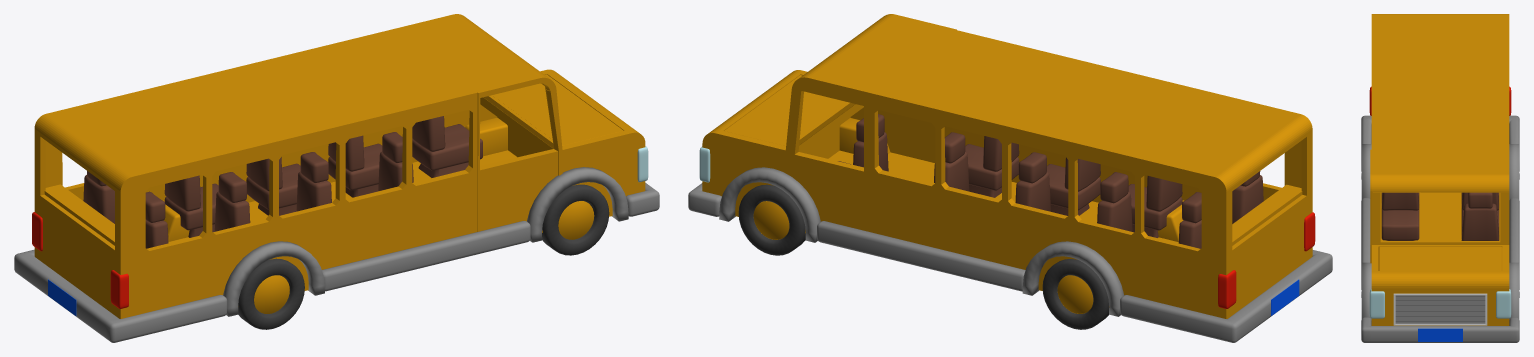
Rendered from SchoolBus.fbx.
3 renders of one model, left to right at view 1: azimuth 30°, elevation 25°; view 2: azimuth 150°, elevation 25°; view 3: azimuth 270°, elevation 25°, orthographic. The views are drawn at different scales.
Parts seen in each view (by area): view 1: Cube, Cube.014, Cube.005, Cube.010, Cube.013, Cylinder, Cylinder.002, Cylinder.004, Cylinder.005, Cylinder.003, Cylinder.001, Cube.009 (+4 smaller); view 2: Cube, Cube.014, Cube.005, Cube.010, Cylinder, Cylinder.002, Cylinder.004, Cylinder.005, Cylinder.003, Cylinder.001, Cube.009, Cube.013 (+4 smaller); view 3: Cube, Cube.007, Cube.010, Cube.004, Cube.014, Cube.005, Cube.013, Cylinder.005, Cylinder.004, Cube.008, Cube.006, Cube.015 (+1 smaller).
Part boxes in pixels (x1=…): Cube: x1=34, y1=14, x2=645, y2=318; Cube.014: x1=83, y1=132, x2=413, y2=248; Cube.005: x1=14, y1=221, x2=530, y2=342; Cube.010: x1=44, y1=97, x2=552, y2=245; Cube.013: x1=412, y1=116, x2=482, y2=177; Cylinder: x1=542, y1=184, x2=609, y2=255; Cylinder.002: x1=238, y1=258, x2=304, y2=329; Cylinder.004: x1=527, y1=167, x2=628, y2=242; Cylinder.005: x1=223, y1=241, x2=324, y2=316; Cylinder.003: x1=254, y1=275, x2=289, y2=313; Cylinder.001: x1=558, y1=201, x2=594, y2=239; Cube.009: x1=32, y1=212, x2=128, y2=308; Cube: x1=702, y1=14, x2=1312, y2=318; Cube.014: x1=934, y1=132, x2=1263, y2=248; Cube.005: x1=817, y1=221, x2=1332, y2=342; Cube.010: x1=798, y1=104, x2=1302, y2=245; Cylinder: x1=738, y1=184, x2=805, y2=255; Cylinder.002: x1=1042, y1=259, x2=1109, y2=329; Cylinder.004: x1=719, y1=167, x2=820, y2=242; Cylinder.005: x1=1022, y1=241, x2=1124, y2=316; Cylinder.003: x1=1057, y1=275, x2=1093, y2=313; Cylinder.001: x1=753, y1=201, x2=789, y2=239; Cube.009: x1=1218, y1=212, x2=1315, y2=308; Cube.013: x1=838, y1=114, x2=888, y2=171; Cube: x1=1370, y1=14, x2=1509, y2=325; Cube.007: x1=1395, y1=295, x2=1485, y2=323; Cube.010: x1=1380, y1=192, x2=1500, y2=240; Cube.004: x1=1361, y1=317, x2=1519, y2=342; Cube.014: x1=1381, y1=192, x2=1499, y2=240; Cube.005: x1=1361, y1=115, x2=1519, y2=289; Cube.013: x1=1461, y1=192, x2=1499, y2=240; Cylinder.005: x1=1361, y1=144, x2=1519, y2=200; Cylinder.004: x1=1361, y1=262, x2=1519, y2=320; Cube.008: x1=1369, y1=289, x2=1511, y2=318; Cube.006: x1=1393, y1=293, x2=1487, y2=325; Cube.015: x1=1418, y1=328, x2=1462, y2=341.
Size of the model in its own units: 737 by 235 by 230.
